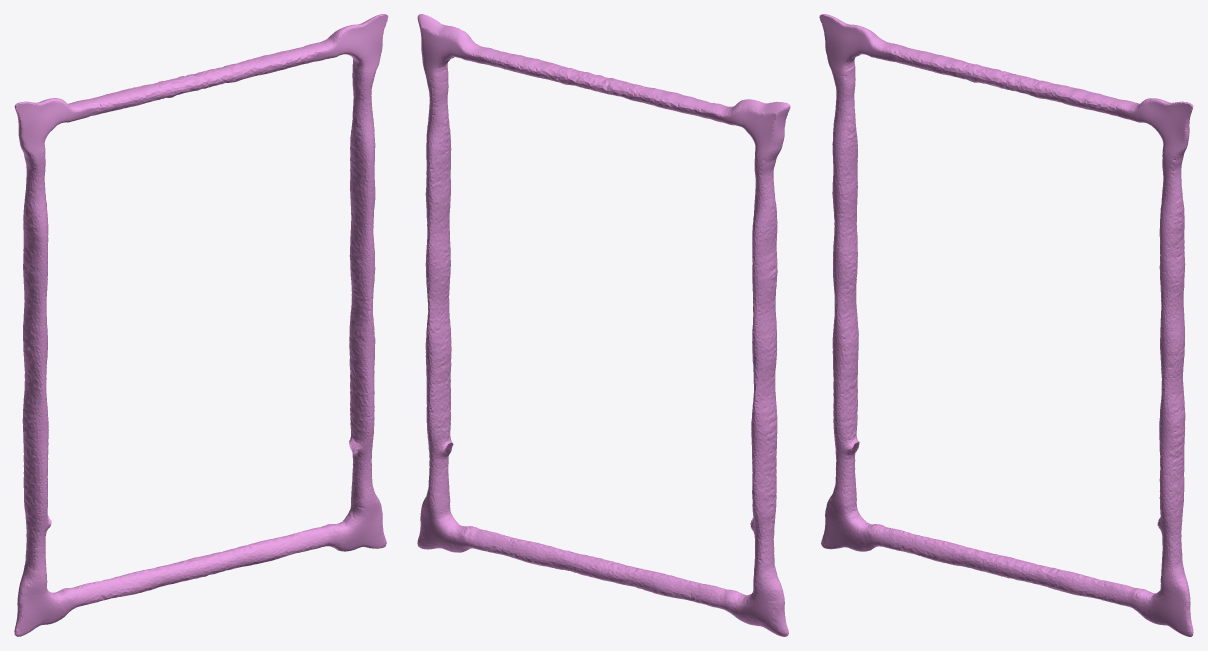
Rendered from cardOverlay-D7JdEpP7.glb.
3 renders of one model, left to right at view 1: azimuth 30°, elevation 25°; view 2: azimuth 150°, elevation 25°; view 3: azimuth 330°, elevation 25°, orthographic.
Visible parts, largest first — view 1: Plane.003; view 2: Plane.003; view 3: Plane.003.
Boxes of the visible parts, x1,y1,x2,y2 form: Plane.003: (14,14,388,636); Plane.003: (417,14,790,636); Plane.003: (819,14,1193,636).
Bounding box in the file's own units: 2.12 × 2.91 × 0.1838.
